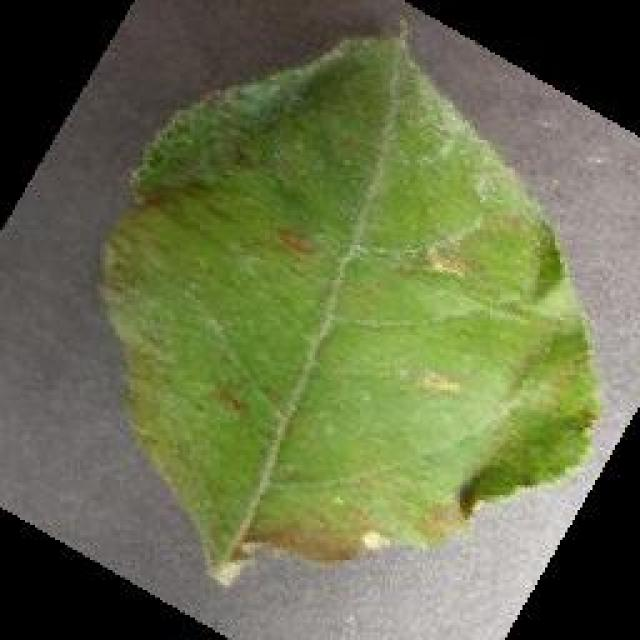apple scab disease: (92, 15, 602, 585)
